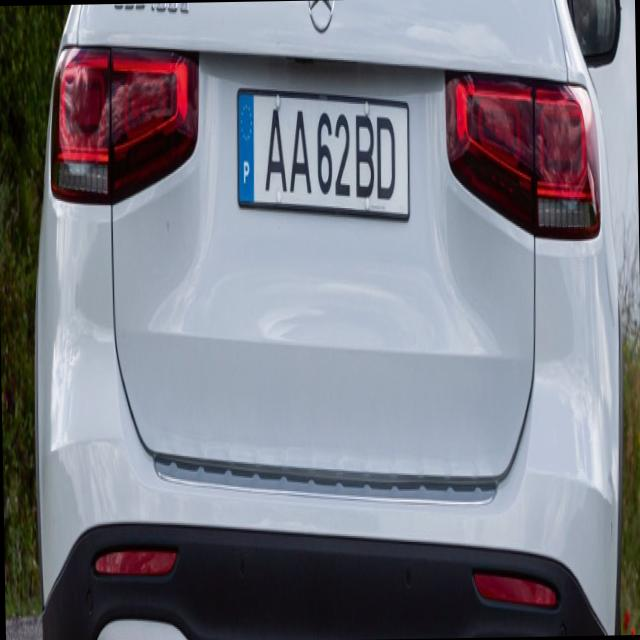portuguese-license-plates: (235, 83, 413, 223)
